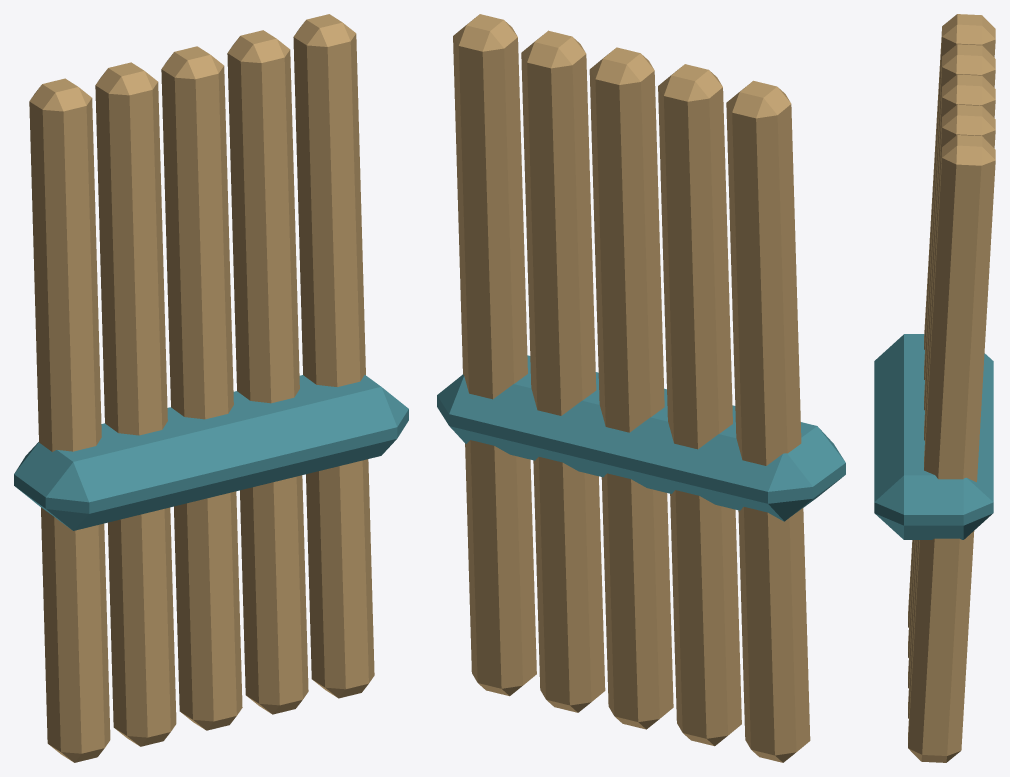
The model's file is reed_bundle.glb.
The picture shows the model from 3 angles, left to right: view 1: azimuth 30°, elevation 25°; view 2: azimuth 150°, elevation 25°; view 3: azimuth 270°, elevation 25°; orthographic projection. The views are drawn at different scales.
Visible parts, largest first — view 1: reed; view 2: reed; view 3: reed.
Part boxes in pixels (x1=…): reed: x1=14, y1=14, x2=408, y2=762; reed: x1=437, y1=14, x2=845, y2=762; reed: x1=874, y1=14, x2=995, y2=762.
Size of the model in its own units: 0.33 by 0.5711 by 0.1018.
